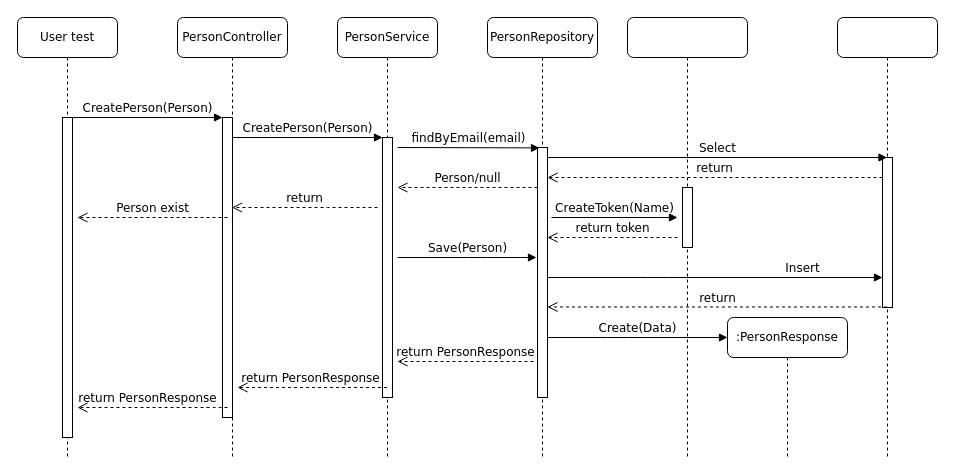
Image size: 955x475. Some labels were removed from this diagram. The shapes that lost their labels are listed below. From the top down, each one's box as (x1, y1, x2, y2) in pixels, then its label:
(626, 16, 748, 458): JwtTokenProvider
(836, 16, 938, 458): H2 DB in memory
